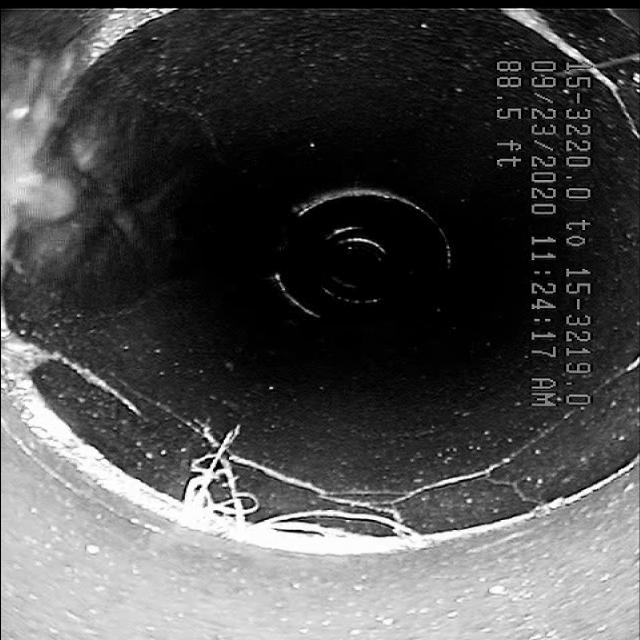Crack: (80, 400, 552, 559)
